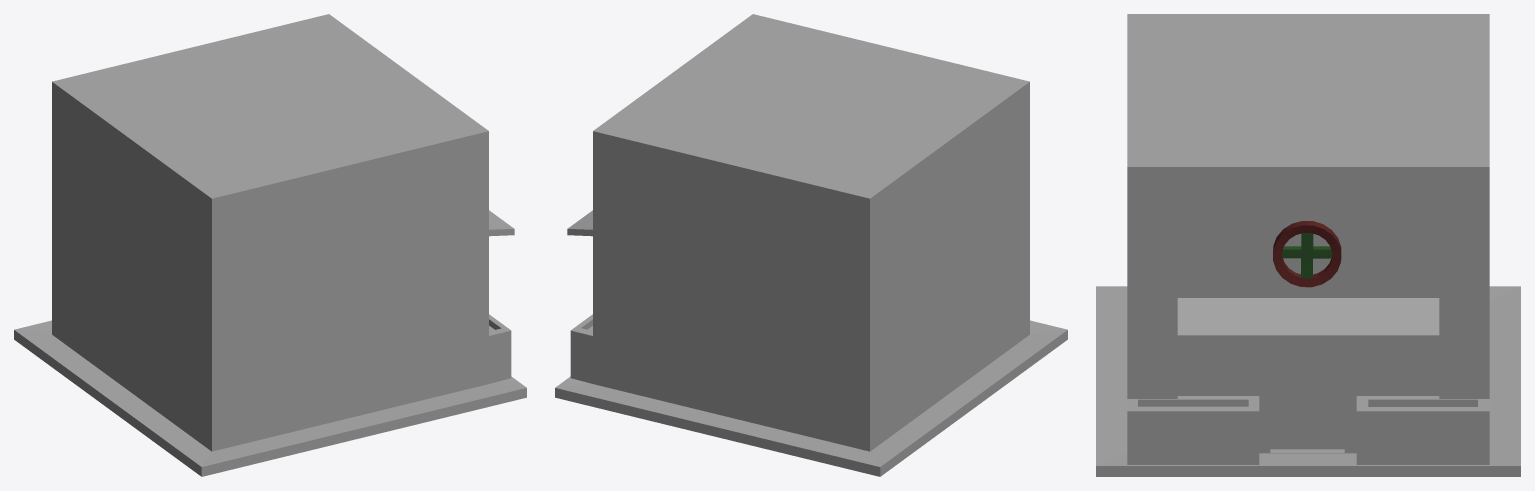
Rendered from Pharmacy.fbx.
3 views of the same model, side by side, from view 1: azimuth 30°, elevation 25°; view 2: azimuth 150°, elevation 25°; view 3: azimuth 270°, elevation 25° (orthographic). The views are drawn at different scales.
Parts seen in each view (by area): view 1: pCylinder2; view 2: pCylinder2; view 3: pCylinder2.
Part boxes in pixels (x1,y1,x2,y2): pCylinder2: [14, 14, 526, 476]; pCylinder2: [555, 14, 1067, 476]; pCylinder2: [1096, 14, 1520, 476].
Size of the model in its own units: 21.4 by 15.37 by 19.95.
